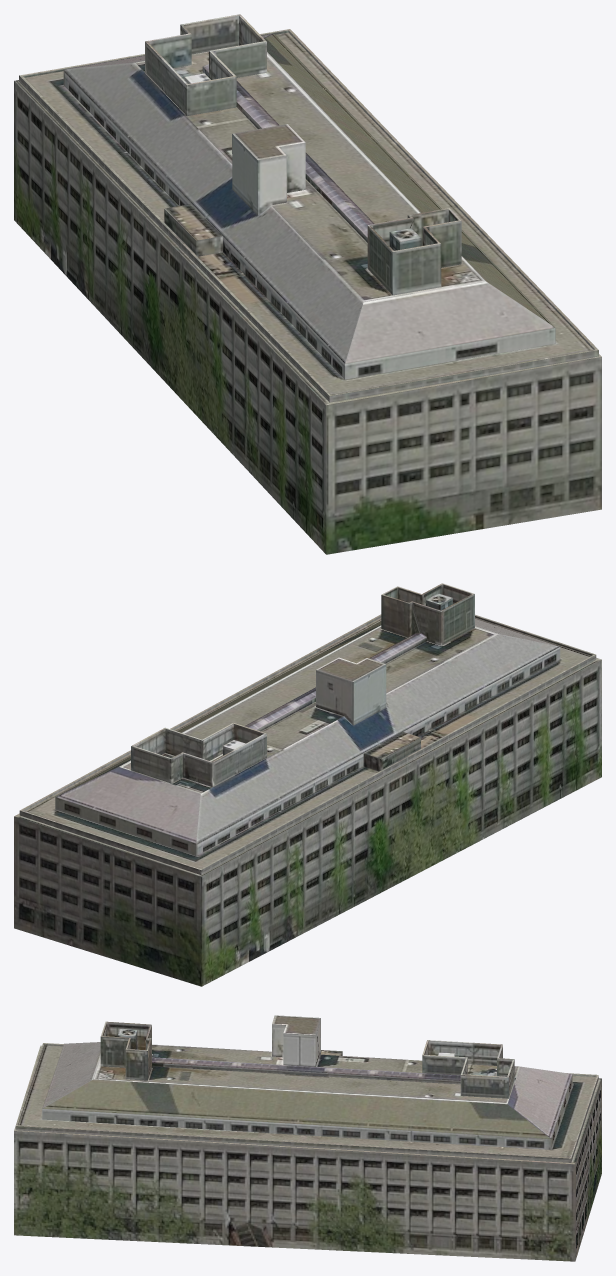
The model's file is Buildings_subset_75.dae.
The picture shows the model from 3 angles, top to bottom: view 1: azimuth 30°, elevation 25°; view 2: azimuth 150°, elevation 25°; view 3: azimuth 270°, elevation 25°; orthographic projection. The views are drawn at different scales.
Visible parts, largest first — view 1: Buildings_subset_75.dae (×19); view 2: Buildings_subset_75.dae (×18); view 3: Buildings_subset_75.dae (×14).
Boxes of the visible parts, bbox=[...] form: Buildings_subset_75.dae (×19): bbox=[14, 14, 601, 554]; Buildings_subset_75.dae (×18): bbox=[14, 583, 601, 986]; Buildings_subset_75.dae (×14): bbox=[14, 1015, 601, 1261].
Bounding box in the file's own units: 143 × 298 × 94.4.
1 material, 1 textured.
